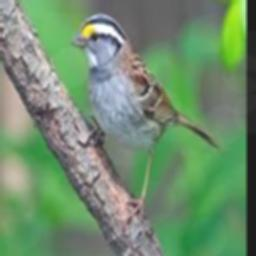Sparrow: (72, 13, 221, 223)
